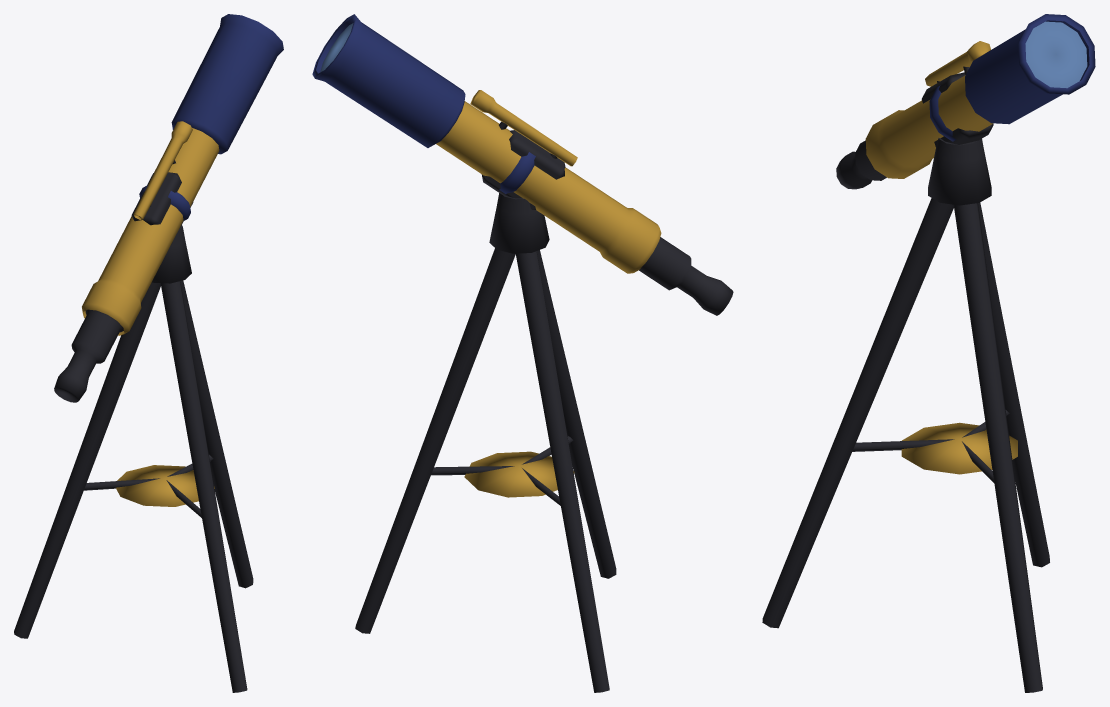
Rendered from furn_star_telescope.glb.
The picture shows the model from 3 angles, left to right: view 1: azimuth 30°, elevation 25°; view 2: azimuth 150°, elevation 25°; view 3: azimuth 270°, elevation 25°; orthographic projection. The views are drawn at different scales.
Visible parts, largest first — view 1: furn_star_telescope_main; view 2: furn_star_telescope_main; view 3: furn_star_telescope_main, furn_star_telescope_gloss.
Part boxes in pixels (x1,y1,x2,y2): furn_star_telescope_main: [14, 14, 283, 692]; furn_star_telescope_main: [312, 14, 733, 692]; furn_star_telescope_main: [762, 14, 1095, 692]; furn_star_telescope_gloss: [1025, 21, 1087, 88].
Bounding box in the file's own units: 0.7504 × 1.35 × 0.5986.
